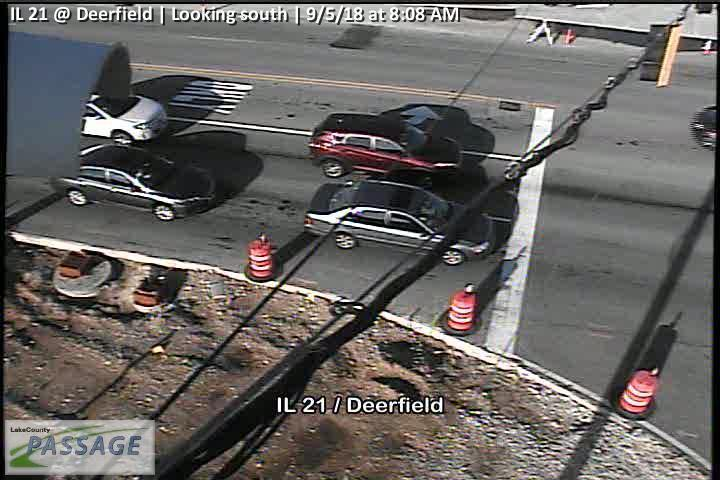SUV: (308, 111, 464, 185)
Sedan: (303, 181, 495, 268), (48, 145, 219, 226), (81, 94, 168, 144)
